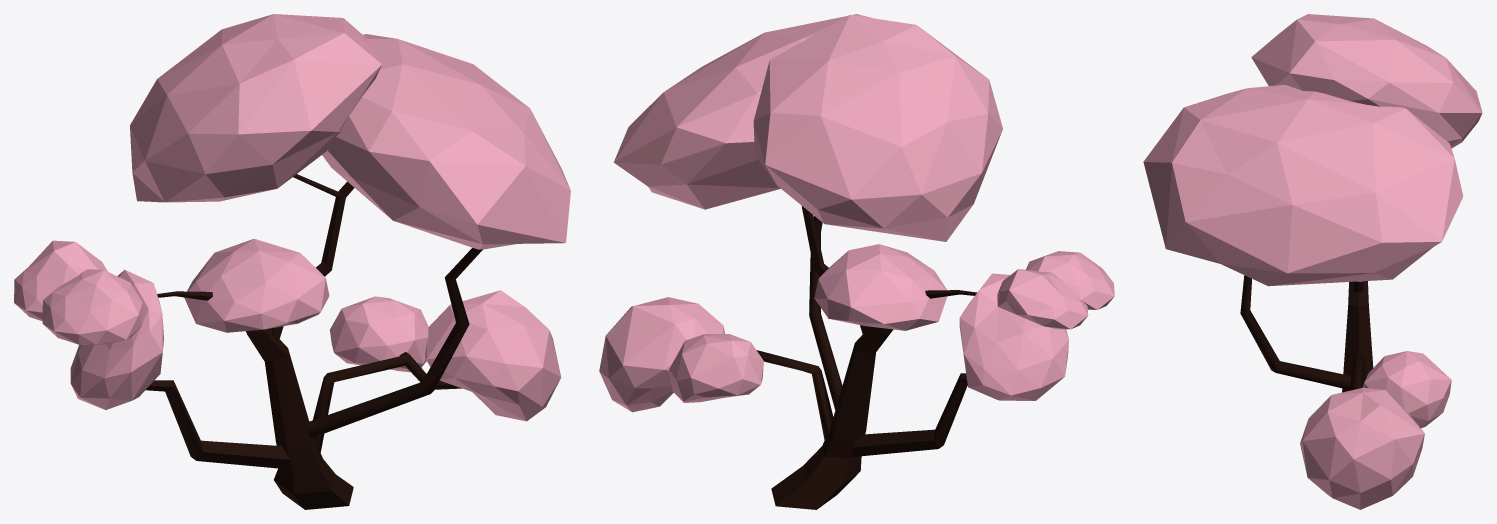
File: cherryblossom.fbx
3 views of the same model, side by side, from view 1: azimuth 30°, elevation 25°; view 2: azimuth 150°, elevation 25°; view 3: azimuth 270°, elevation 25° (orthographic). The views are drawn at different scales.
Visible parts, largest first — view 1: Cylinder001; view 2: Cylinder001; view 3: Cylinder001.
Part boxes in pixels (left/top/right/bottom): Cylinder001: left=14, top=14, right=570, bottom=509; Cylinder001: left=599, top=14, right=1114, bottom=509; Cylinder001: left=1143, top=14, right=1482, bottom=509.
Bounding box in the file's own units: 476 × 433 × 317.
